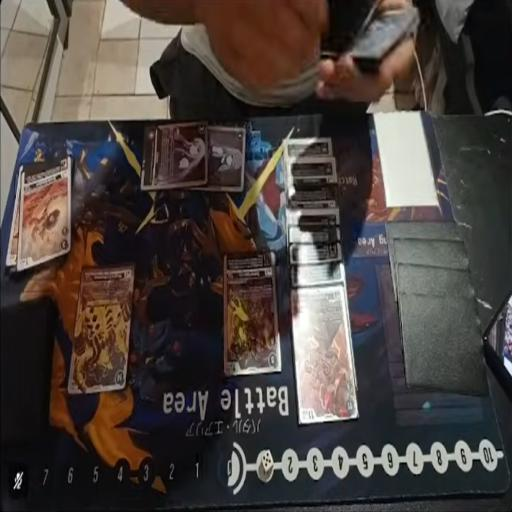card: (292, 285, 360, 427), (67, 262, 135, 396), (223, 247, 277, 374), (18, 156, 74, 276), (141, 121, 206, 194), (205, 126, 248, 198), (4, 163, 29, 269), (288, 264, 350, 291), (284, 160, 336, 192), (288, 240, 342, 269), (286, 187, 340, 212), (286, 207, 342, 231), (288, 222, 340, 246), (283, 138, 333, 162)
